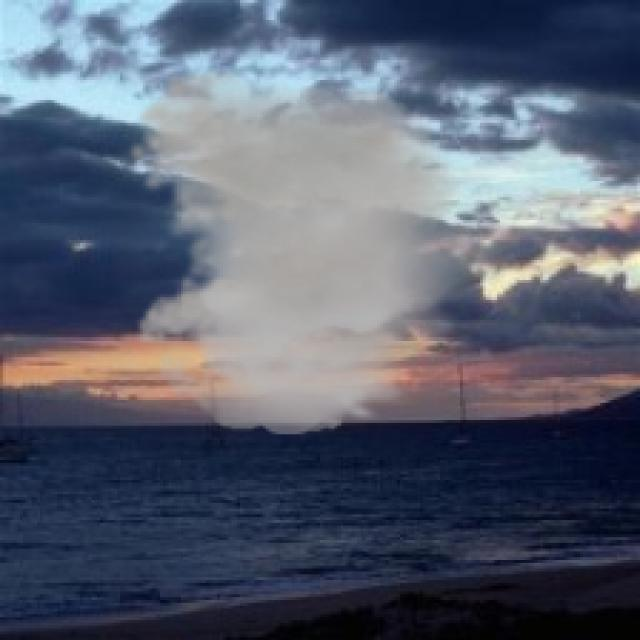smoke: (126, 69, 511, 434)
